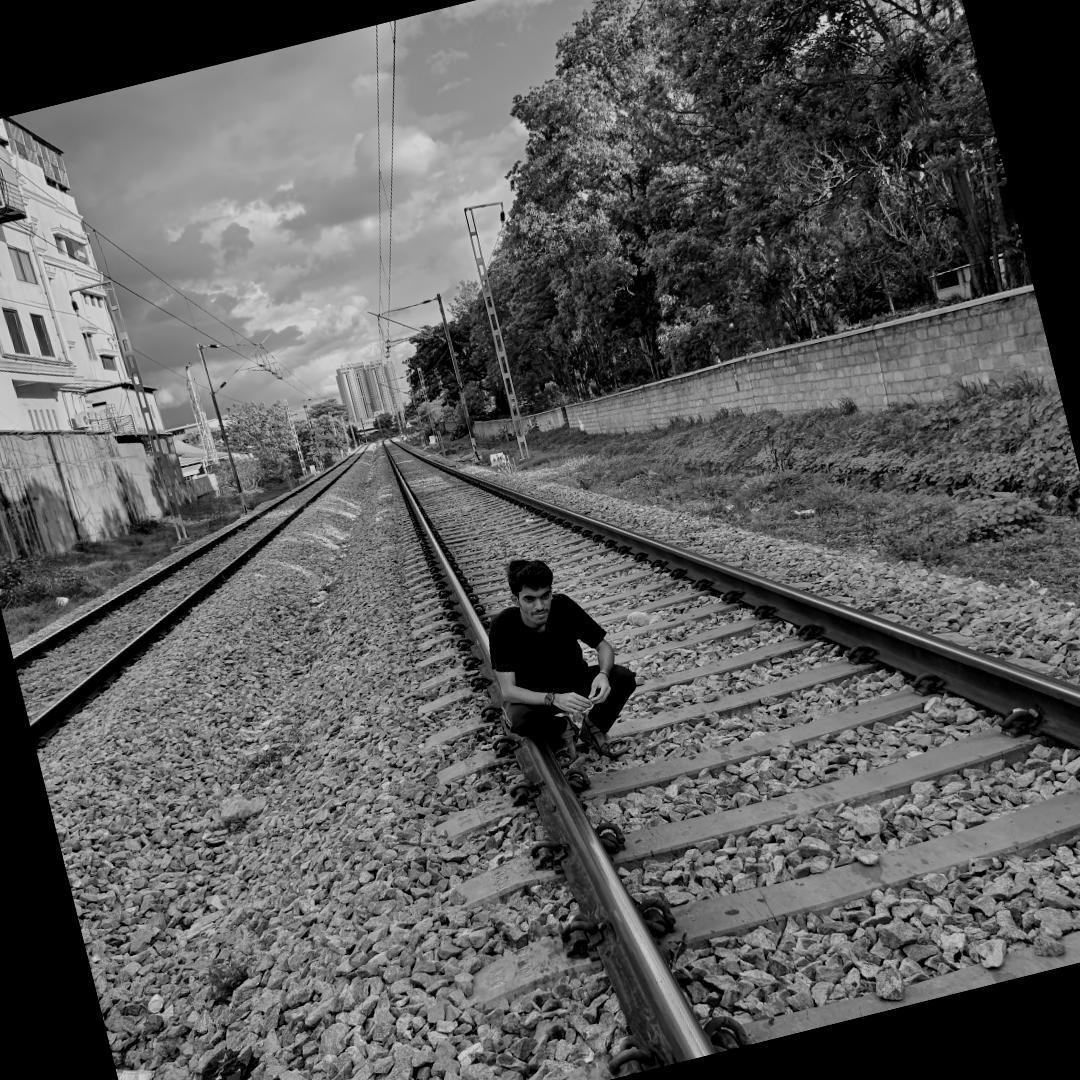sitting: (462, 536, 642, 760)
